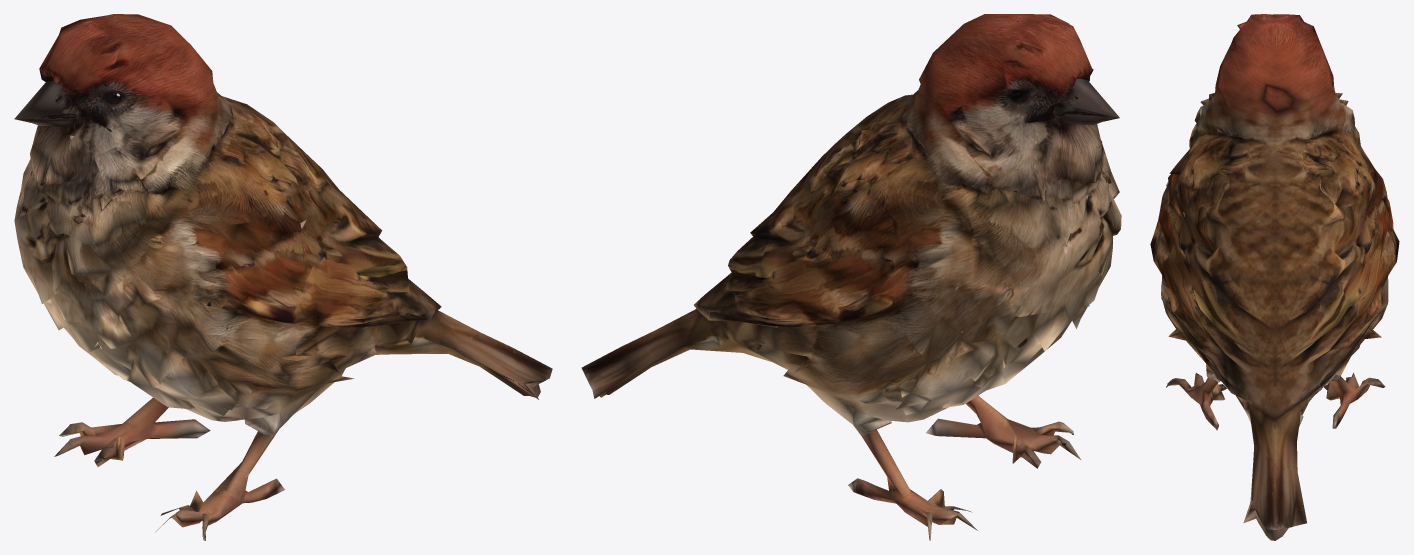
Rendered from sparrow.glb.
3 views of the same model, side by side, from view 1: azimuth 30°, elevation 25°; view 2: azimuth 150°, elevation 25°; view 3: azimuth 270°, elevation 25° (orthographic). The views are drawn at different scales.
Visible parts, largest first — view 1: sparrow; view 2: sparrow; view 3: sparrow.
Part boxes in pixels (bbox=[...]): sparrow: bbox=[14, 14, 552, 540]; sparrow: bbox=[581, 14, 1121, 540]; sparrow: bbox=[1150, 14, 1399, 540].
Bounding box in the file's own units: 0.9858 × 0.8333 × 0.5197.
Materials: 1 (1 with a texture image).
